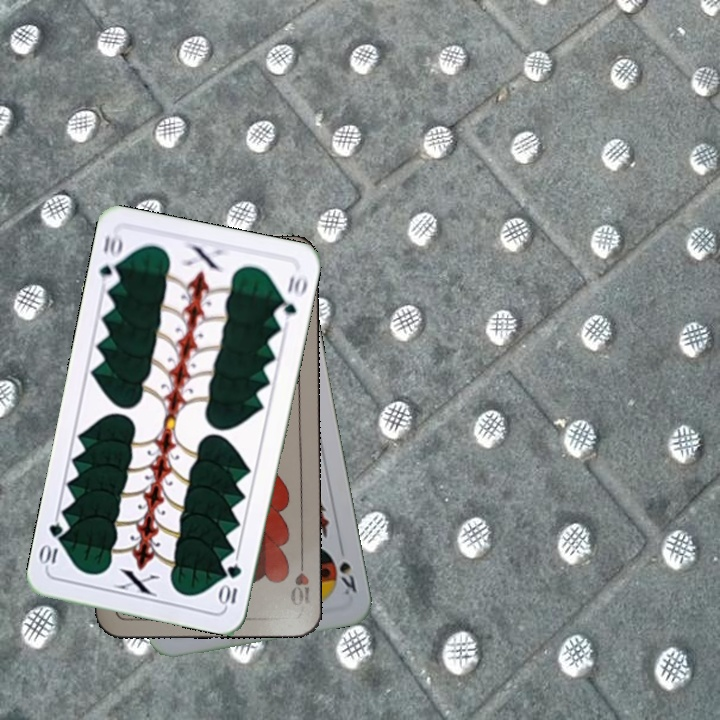G10: (95, 229, 126, 290), (217, 559, 244, 609)
H10: (286, 551, 313, 608)
SK: (335, 540, 359, 598)
